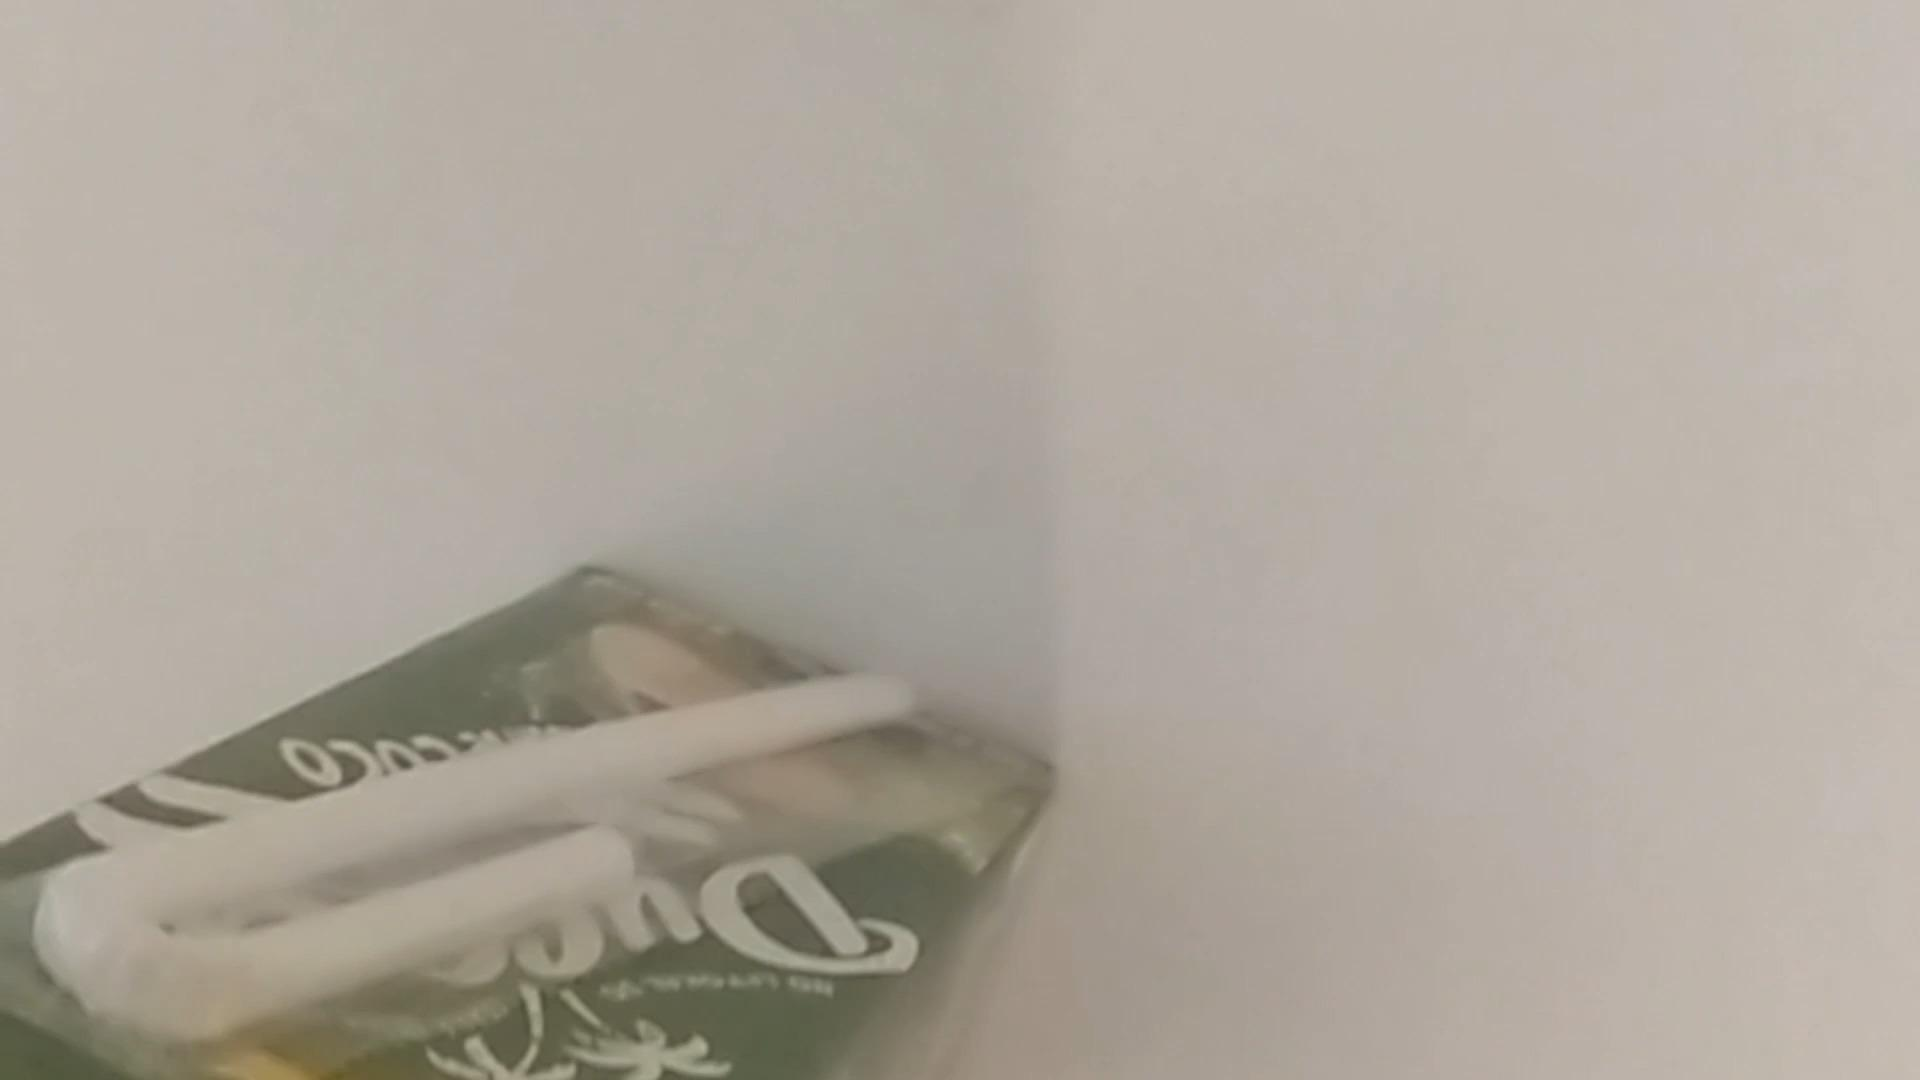coco: (1, 562, 1056, 1072)
